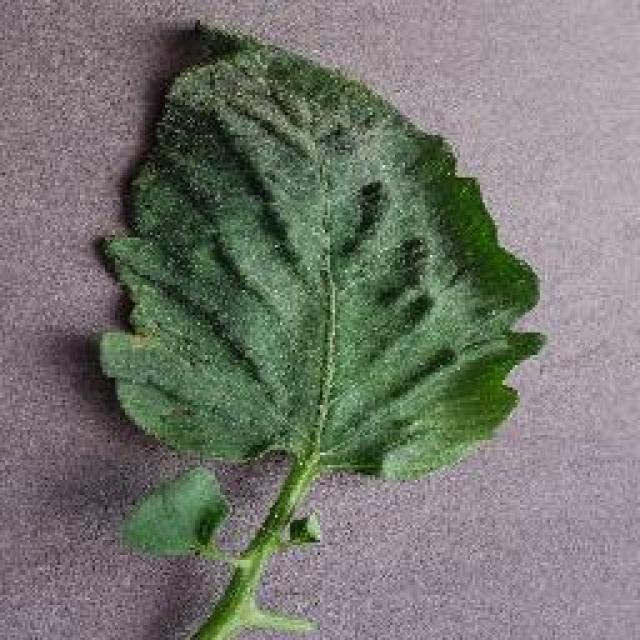Tomato___Target_Spot: (100, 20, 542, 638)
